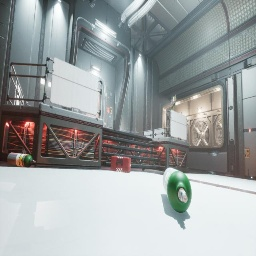0: (163, 168, 192, 213), (7, 152, 36, 168)
EmergencyPhone ,: (244, 146, 250, 158), (110, 105, 112, 114)
FireAlarm ,: (107, 107, 109, 113)
FirstAidBox ,: (110, 156, 131, 173)
SafetySwitchPanel ,: (72, 108, 78, 113)
